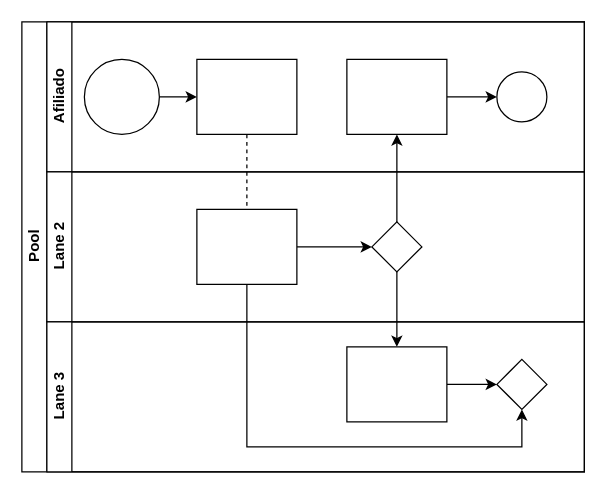
Some shapes in this 606 by 494 pixel diagram are drawn without their labels. Here are the shapes that lost their labels. From the top down, the box of each, then its label:
(83, 58, 159, 134): Usuario afiliado
(196, 58, 297, 134): Compra credito
